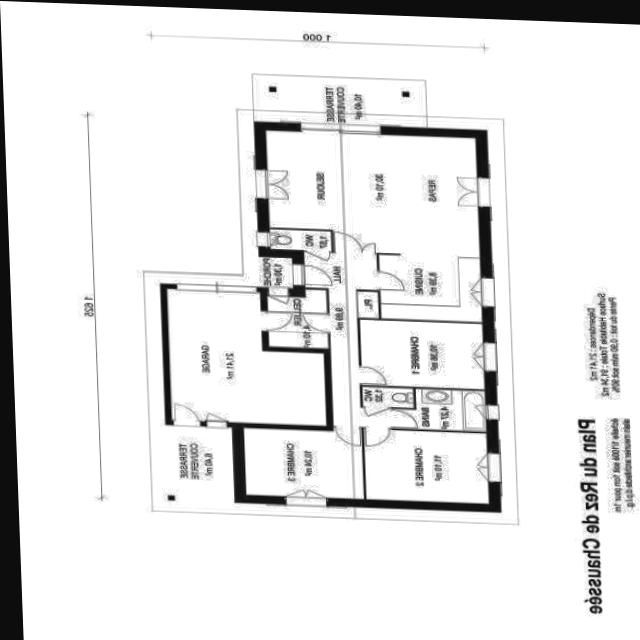room: (259, 130, 489, 321), (162, 288, 331, 425), (302, 244, 393, 434), (362, 428, 491, 503), (357, 319, 487, 389), (243, 426, 364, 498), (392, 387, 488, 431), (267, 287, 328, 350), (269, 228, 332, 250), (362, 386, 414, 407)
